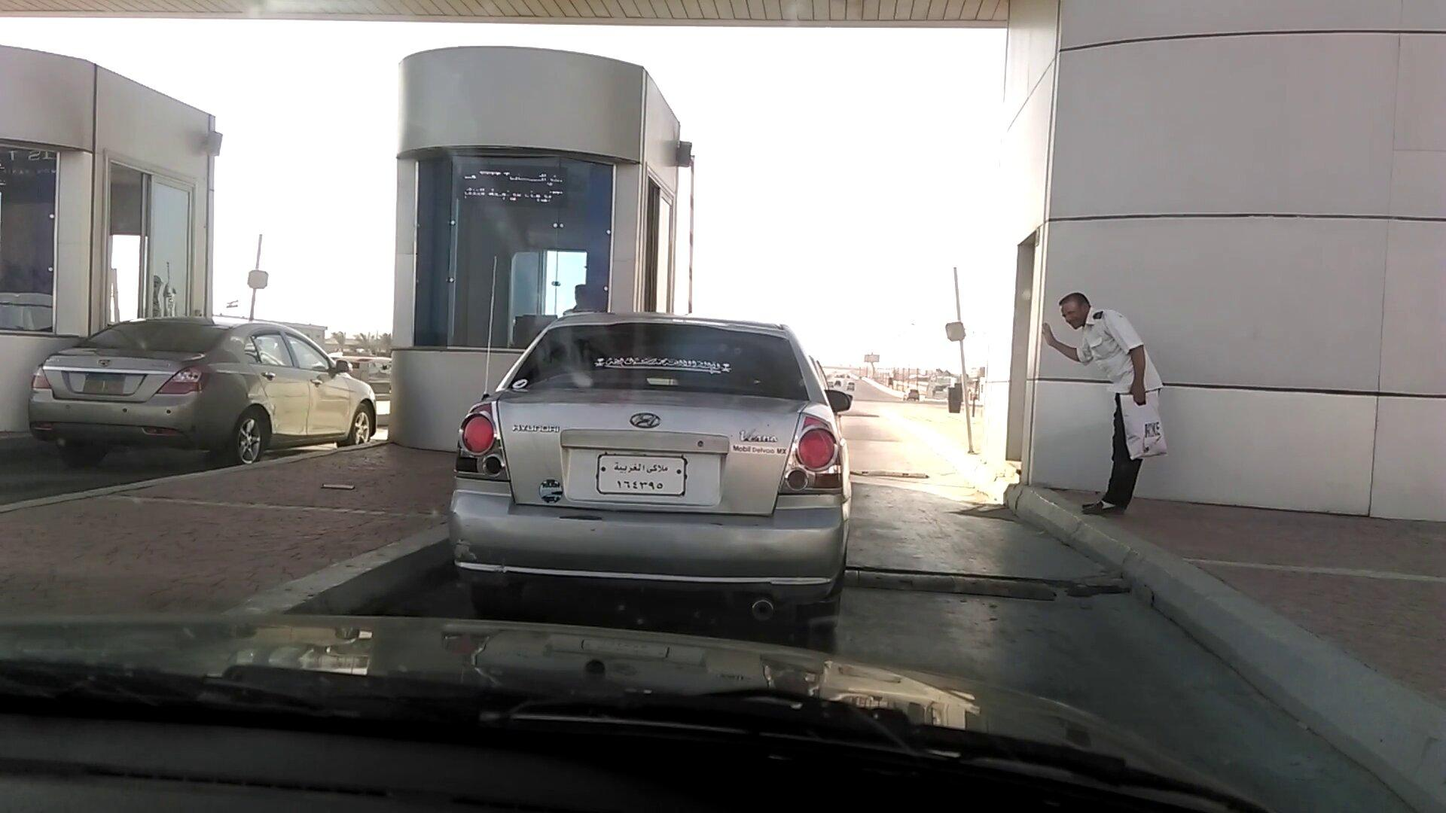Bump: (843, 550, 1096, 617)
